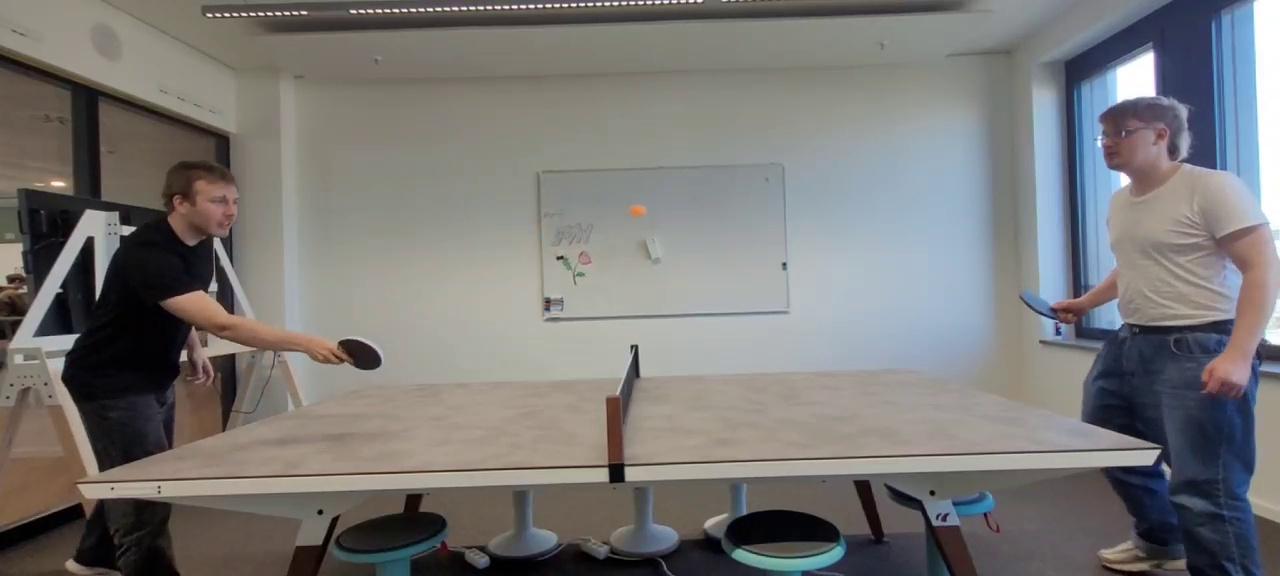plate: (77, 365, 1160, 483)
racket: (336, 337, 383, 370), (1019, 291, 1057, 320)
ttball: (631, 206, 645, 215)
